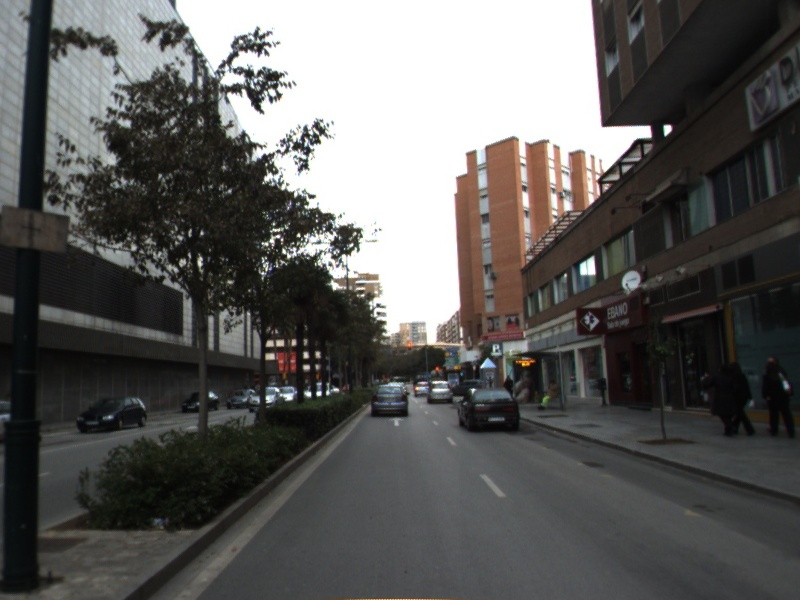STRAIGHT: (387, 415, 406, 428)
